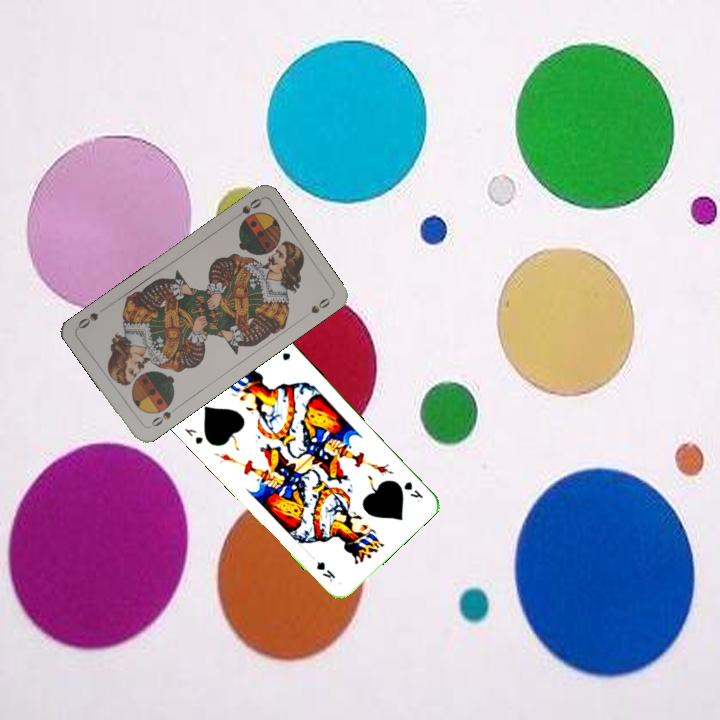GK: (399, 478, 425, 505), (180, 424, 205, 447)
SO: (228, 194, 264, 223), (144, 403, 180, 431)
